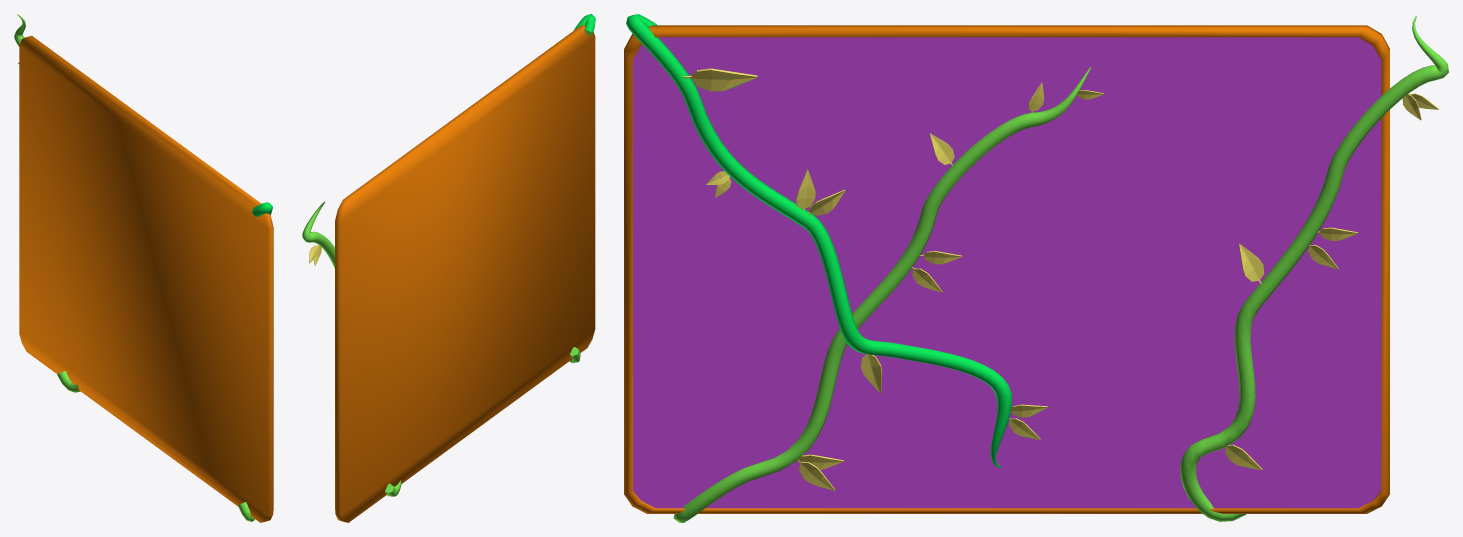
File: cuadro3_presente.fbx
3 views of the same model, side by side, from view 1: azimuth 30°, elevation 25°; view 2: azimuth 150°, elevation 25°; view 3: azimuth 270°, elevation 25° (orthographic). The views are drawn at different scales.
Visible parts, largest first — view 1: Cuadro 4.007, Cuadro 4.002; view 2: Cuadro 4.007, Cuadro 4.002; view 3: Cuadro 4, Cuadro 4.007, Cuadro 4.003, Cuadro 4.002, Cuadro 4.005, Cuadro 4.004, Cuadro 4.006, Cuadro 4.001.
Part boxes in pixels (x1=…): Cuadro 4.007: x1=19, y1=35, x2=273, y2=522; Cuadro 4.002: x1=14, y1=14, x2=80, y2=392; Cuadro 4.007: x1=335, y1=25, x2=595, y2=522; Cuadro 4.002: x1=302, y1=30, x2=592, y2=496; Cuadro 4: x1=633, y1=37, x2=1381, y2=508; Cuadro 4.007: x1=624, y1=25, x2=1389, y2=513; Cuadro 4.003: x1=626, y1=14, x2=1042, y2=468; Cuadro 4.002: x1=1180, y1=16, x2=1448, y2=521; Cuadro 4.005: x1=673, y1=67, x2=1091, y2=522; Cuadro 4.004: x1=682, y1=68, x2=1048, y2=439; Cuadro 4.006: x1=797, y1=82, x2=1104, y2=490; Cuadro 4.001: x1=1225, y1=93, x2=1438, y2=470.
Size of the model in its own units: 1.24 by 11.03 by 16.15.
